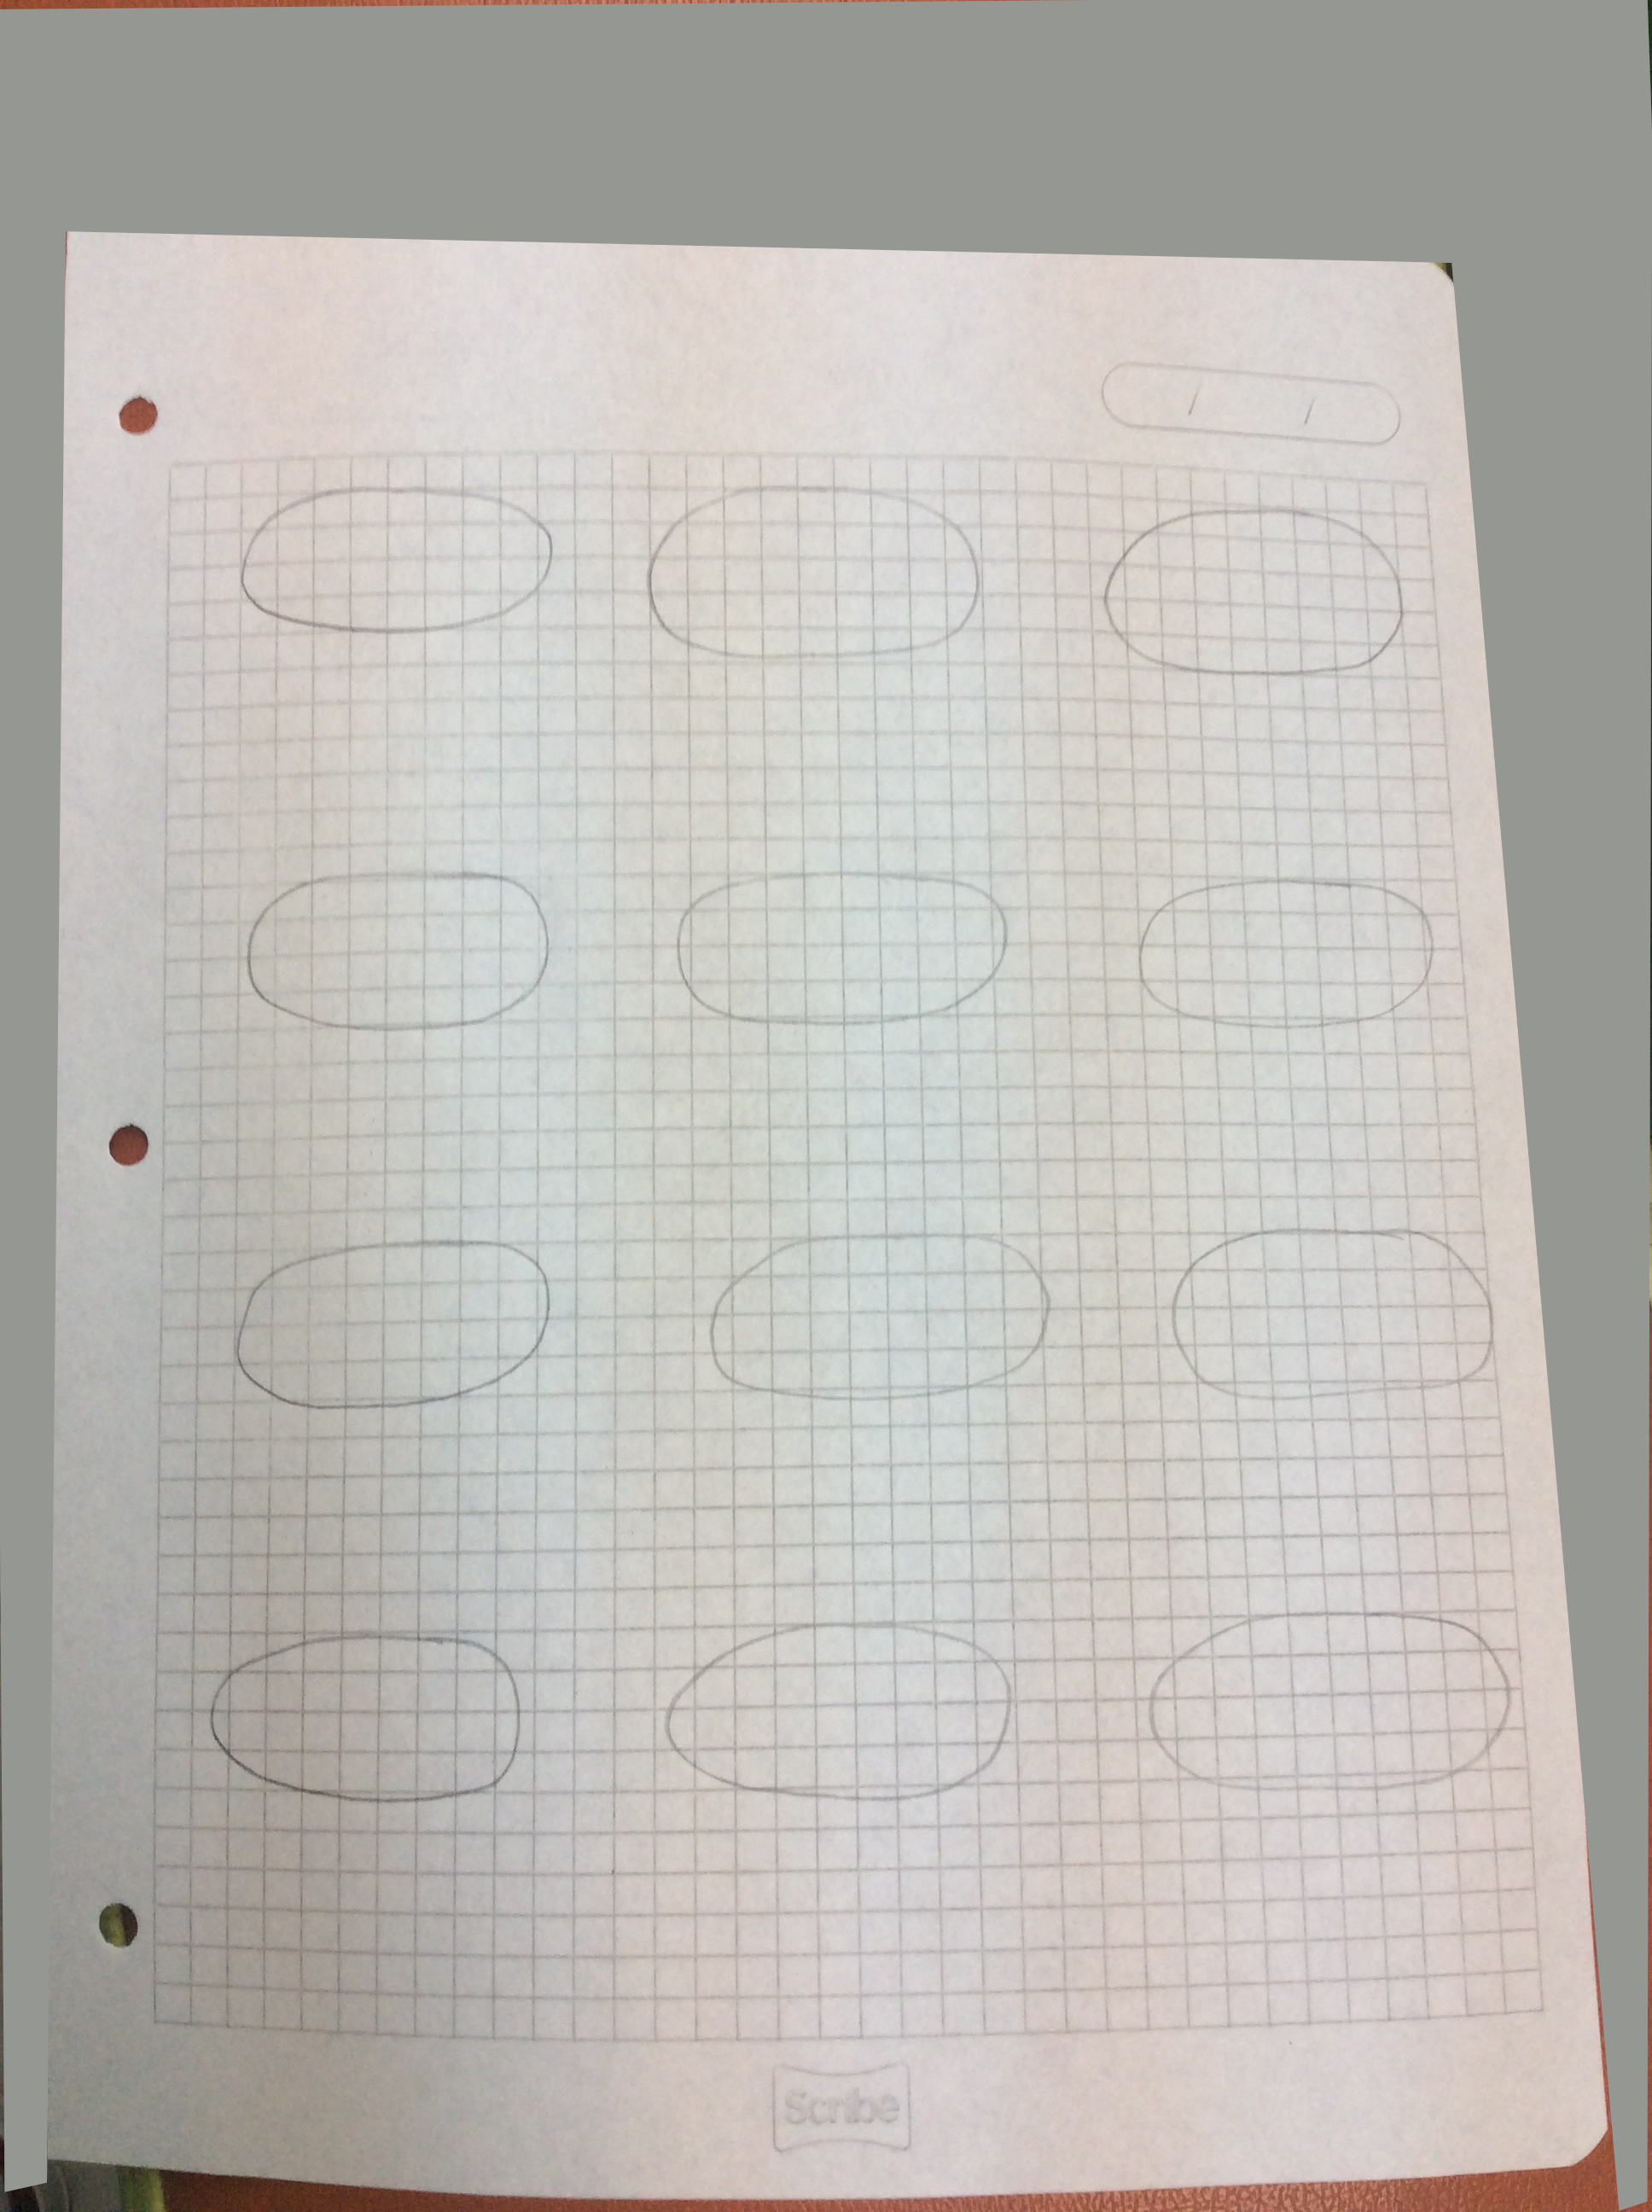start_end: (616, 458, 1012, 696), (644, 1591, 1032, 1823), (684, 1206, 1067, 1433), (1135, 1594, 1531, 1813), (647, 843, 1039, 1044), (1142, 1211, 1513, 1423), (189, 1605, 541, 1827), (213, 458, 585, 663), (213, 1218, 578, 1426), (213, 847, 574, 1048), (1081, 488, 1421, 699), (1104, 867, 1456, 1055)
